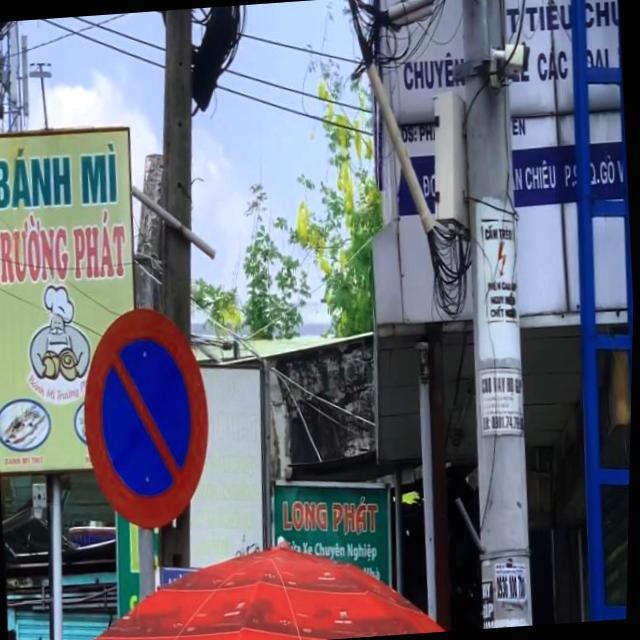Cam do xe: (75, 303, 219, 535)
